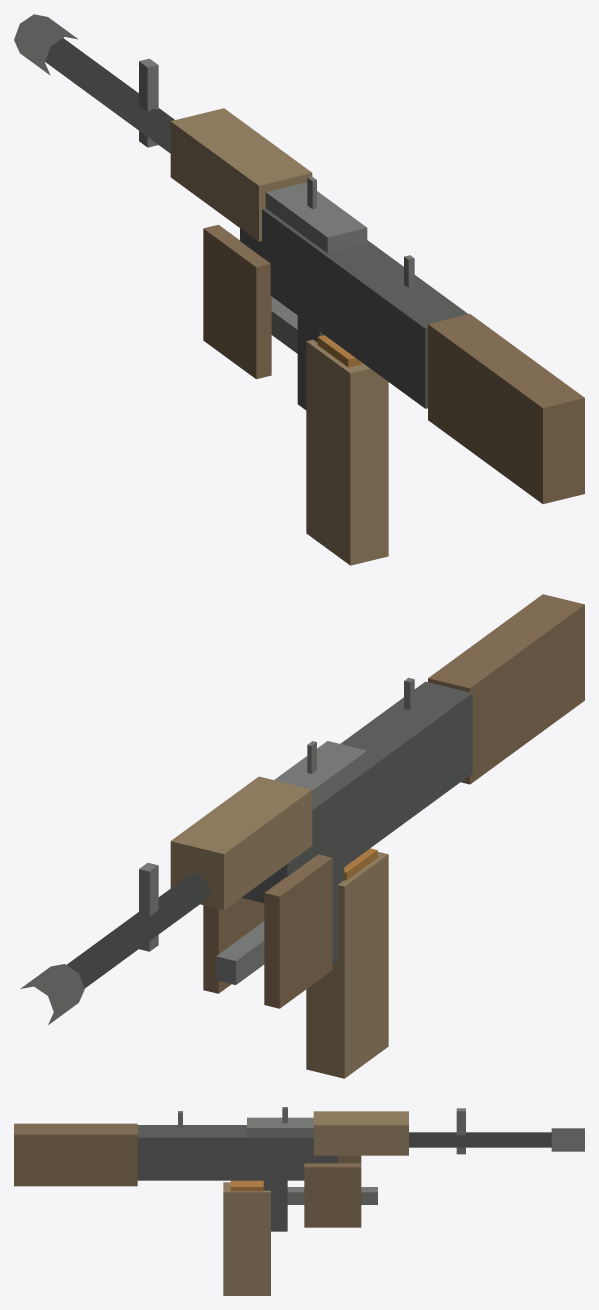
The model's file is w_rpk.glb.
The picture shows the model from 3 angles, top to bottom: view 1: azimuth 30°, elevation 25°; view 2: azimuth 150°, elevation 25°; view 3: azimuth 270°, elevation 25°; orthographic projection. The views are drawn at different scales.
Parts seen in each view (by area): view 1: body; view 2: body; view 3: body.
Boxes of the visible parts, x1,y1,x2,y2 form: body: (14,14,584,565); body: (20,594,584,1078); body: (14,1107,584,1295).
Size of the model in its own units: 0.1 by 0.425 by 1.2.
